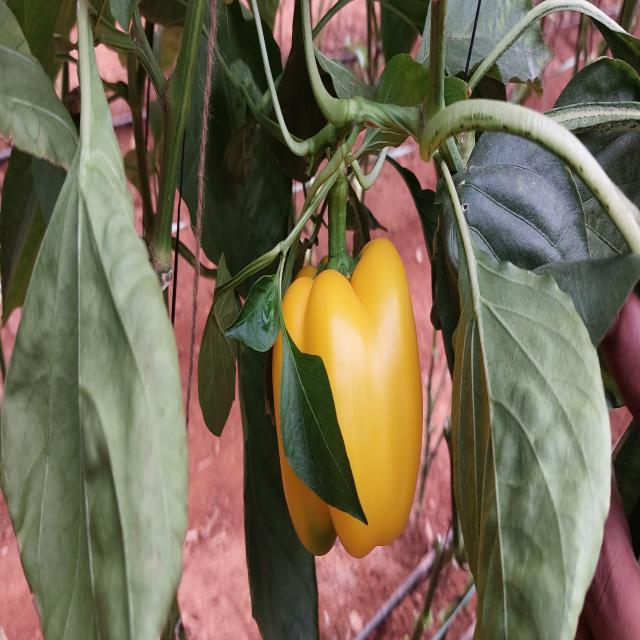Yellow-Ready-to-Harvest: (274, 231, 424, 558)
